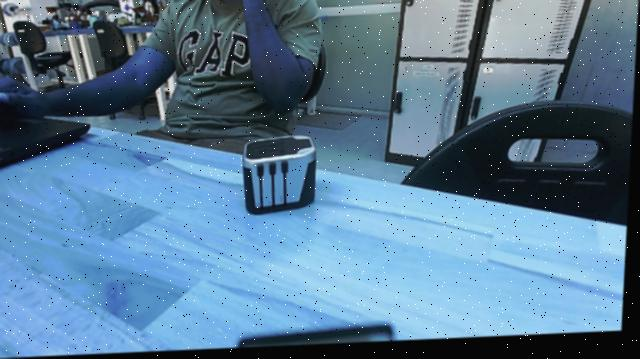adapter: (237, 134, 324, 220)
